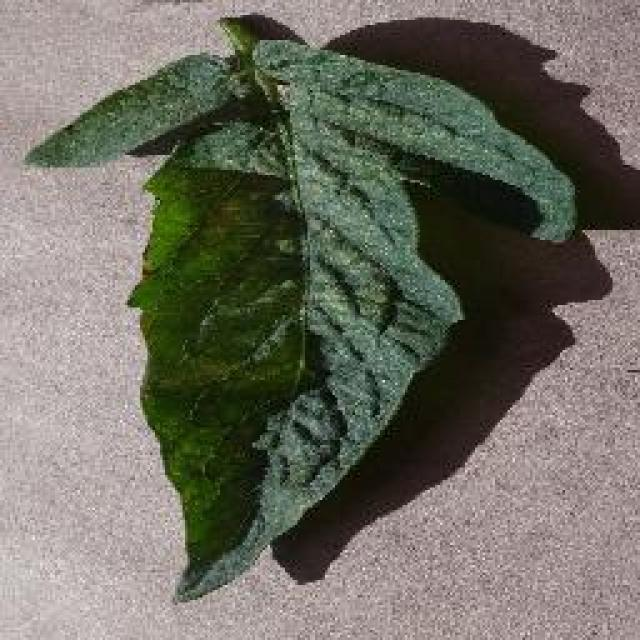Tomato___Spider_mites Two-spotted_spider_mite: (25, 18, 575, 598)
